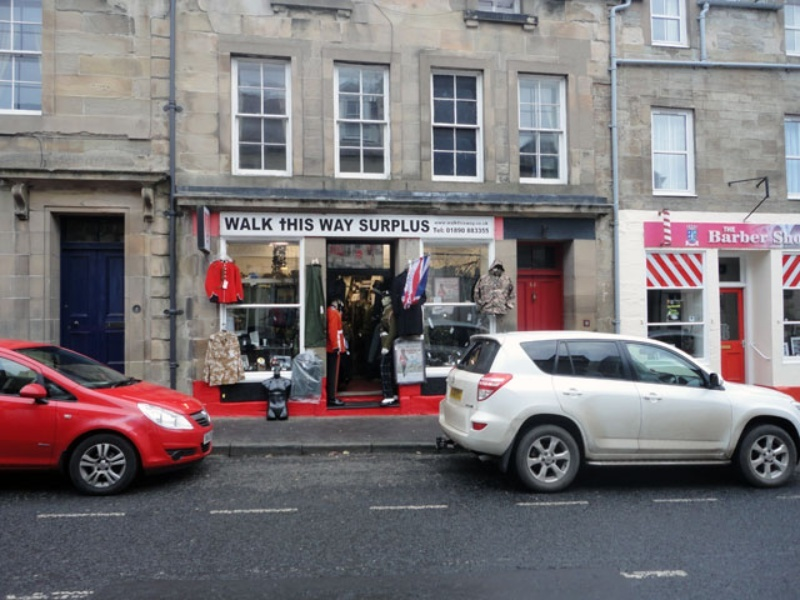text: (753, 229, 769, 244), (785, 229, 799, 246), (289, 217, 304, 232), (369, 218, 384, 233), (385, 218, 400, 233), (401, 218, 416, 233), (721, 229, 736, 244), (737, 229, 752, 244), (257, 217, 273, 231), (225, 217, 240, 231), (241, 217, 256, 231), (321, 218, 336, 232), (337, 218, 352, 232), (417, 218, 431, 233), (773, 229, 784, 246), (708, 229, 720, 244), (278, 217, 288, 232), (722, 224, 736, 234), (305, 217, 314, 232), (359, 218, 368, 233), (433, 227, 448, 236), (449, 227, 464, 236), (465, 227, 480, 236), (433, 219, 448, 227), (449, 219, 464, 227), (465, 219, 480, 227), (481, 227, 491, 236), (481, 219, 491, 227), (319, 218, 320, 232), (353, 218, 354, 232)
